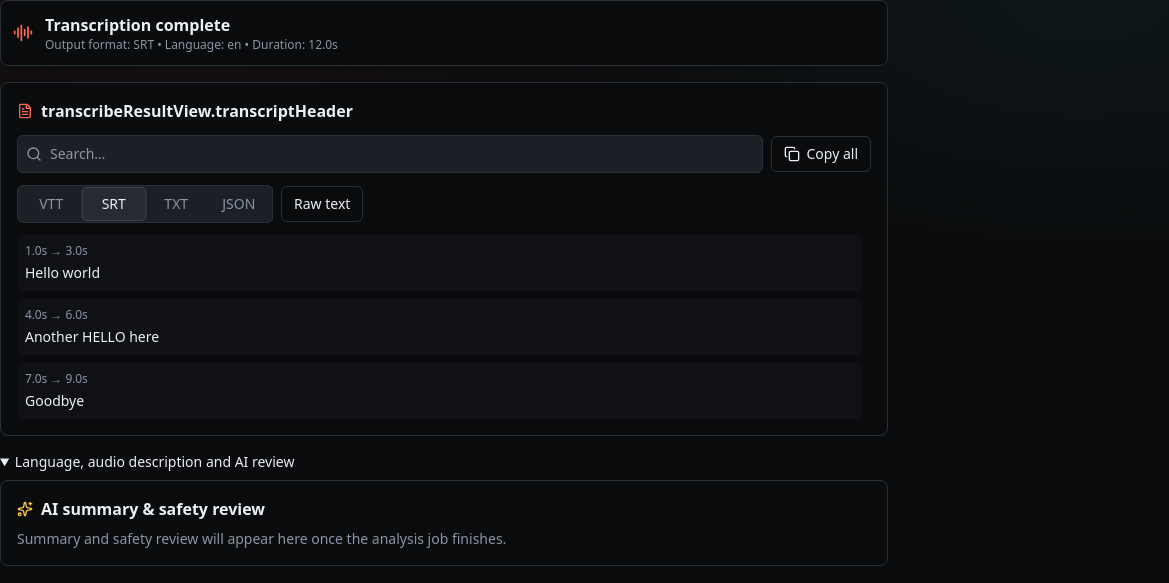
TranscriptView › search counts, highlights and cycles with Enter / Shift+Enter
The width and height of the screenshot is (1169, 583).
Type "hello" into the search field named "Search transcript" at x=402, y=154, box [50,136,754,172]
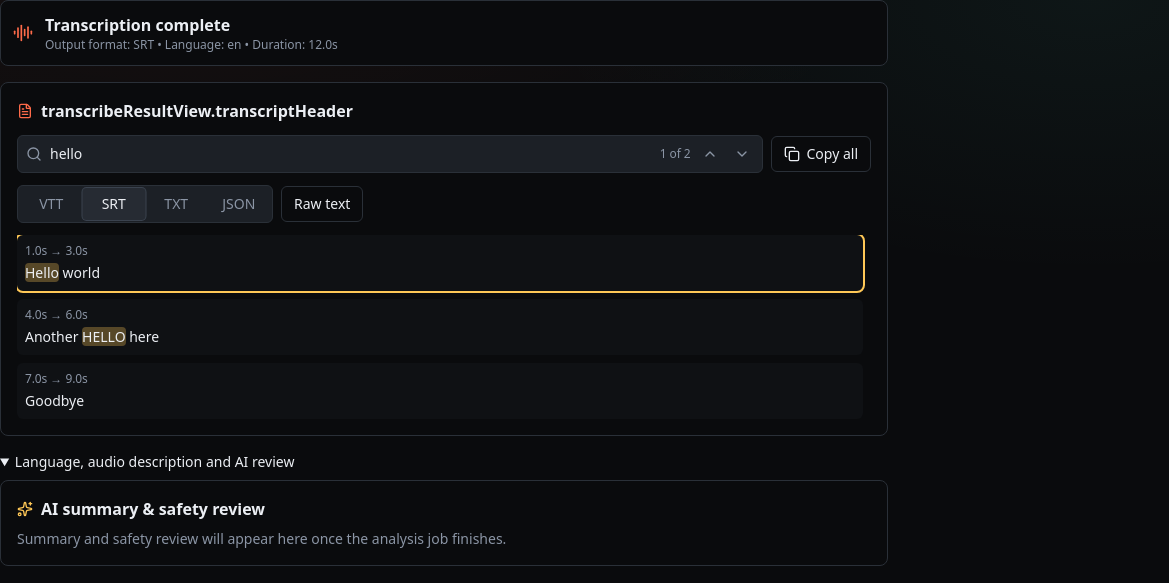
Expected: the text "1 of 2" is shown, [660,146,690,162]
Press Enter in the search field named "Search transcript", box [50,136,652,172]
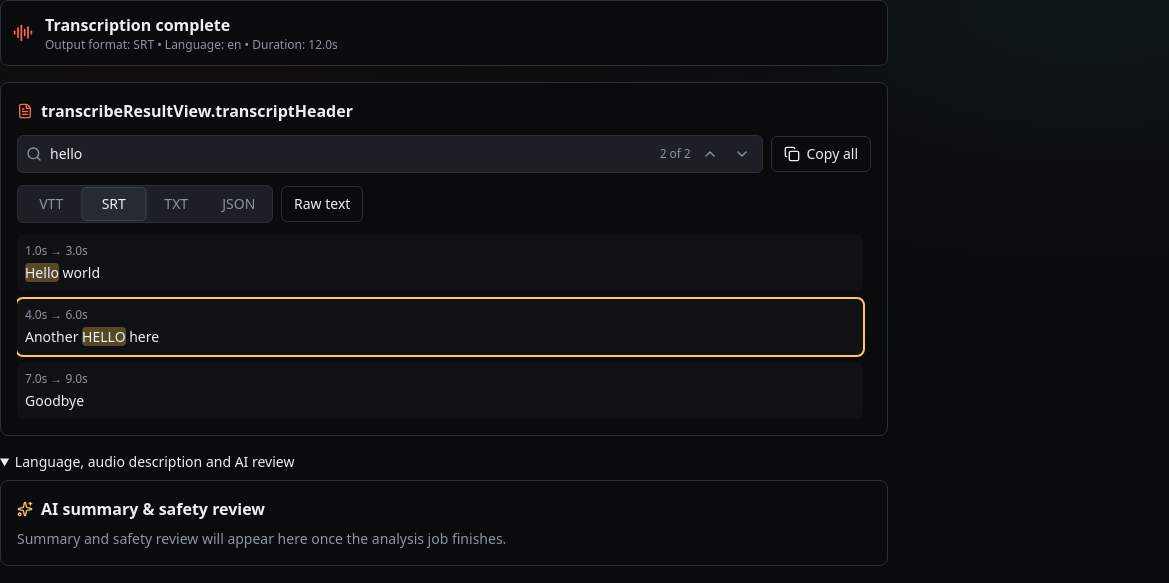
Expected: the text "2 of 2" is shown, [660,146,690,162]
Press Enter in the search field named "Search transcript", box [50,136,652,172]
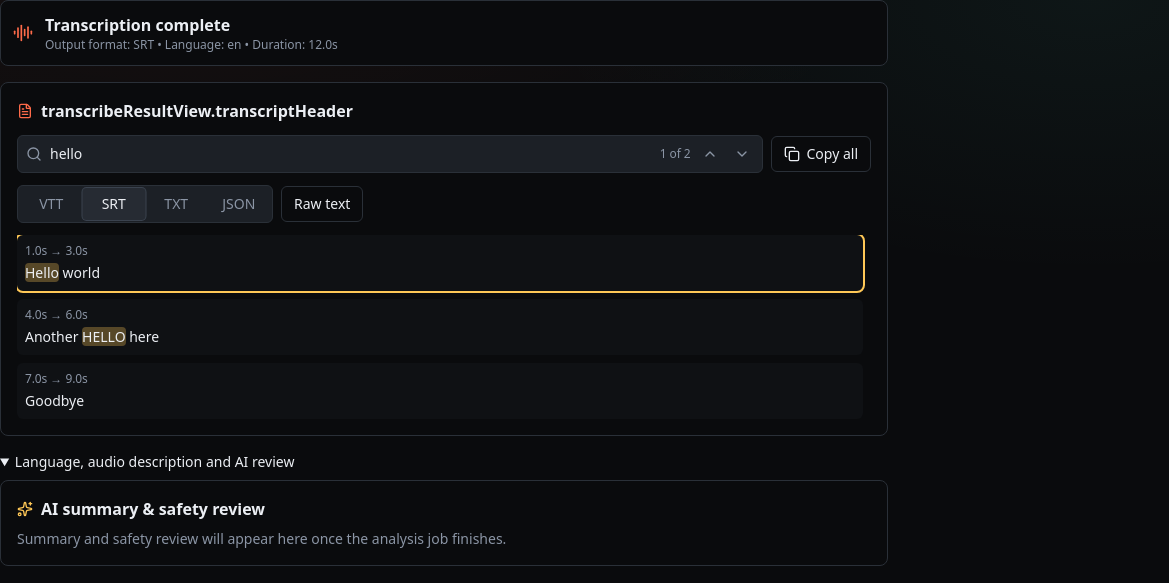
Expected: the text "1 of 2" is shown, [660,146,690,162]
Replace the text in the search field named "Search transcript" with "zzz" at x=351, y=154, box [50,136,652,172]
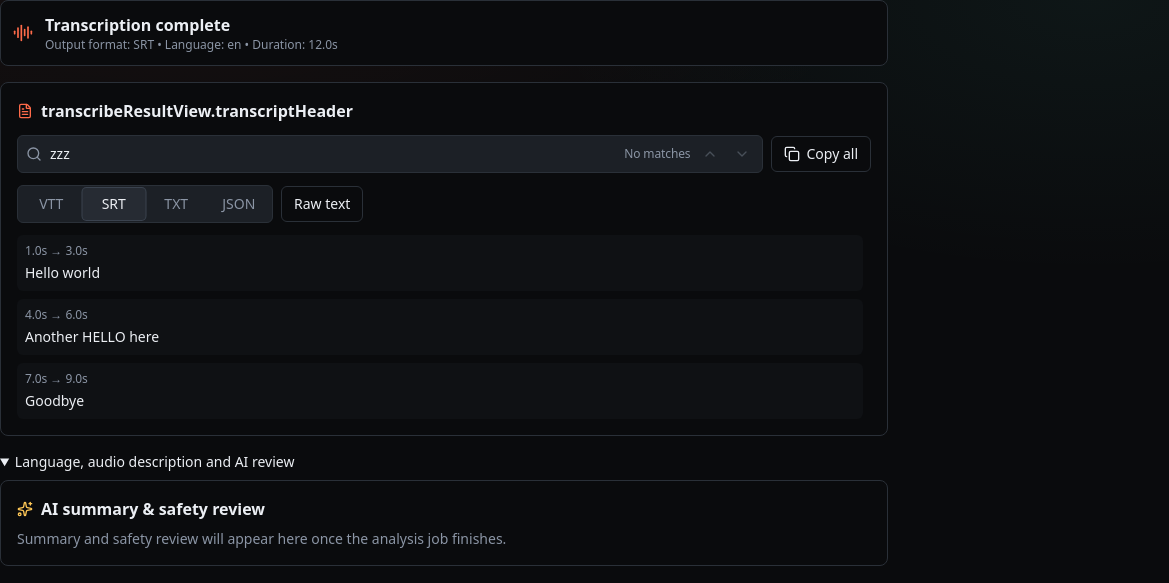
Expected: the text "No matches" is shown, [624,146,690,162]
